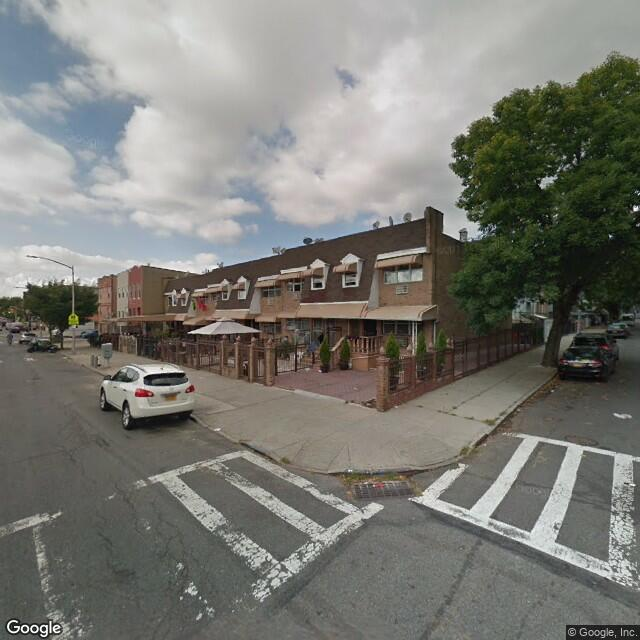litter: (214, 422, 231, 435), (512, 402, 530, 413), (470, 441, 495, 448), (545, 387, 566, 395)
